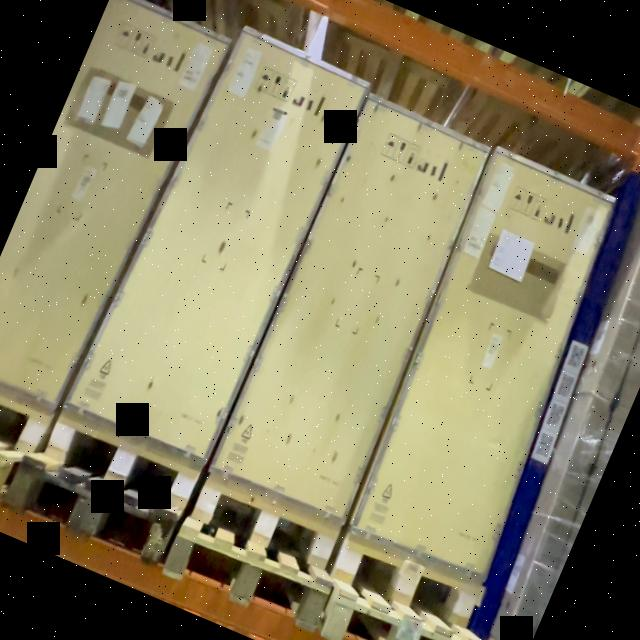box: (81, 28, 368, 466), (208, 94, 491, 524), (346, 148, 622, 577)
